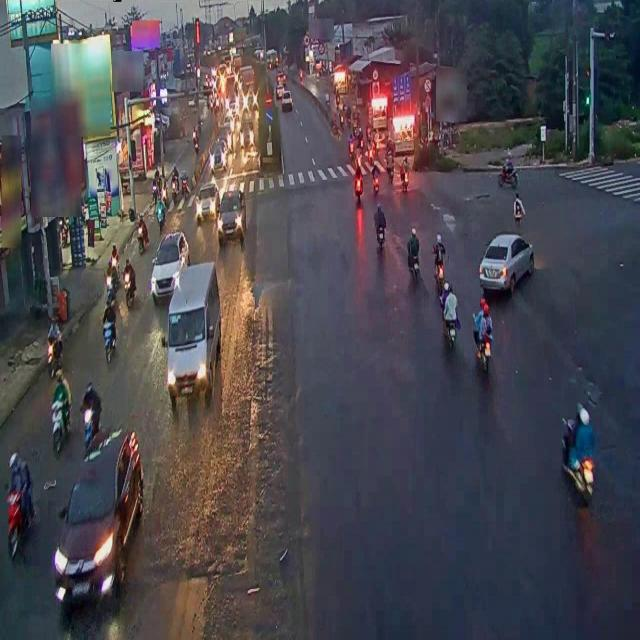car: (55, 420, 141, 619), (150, 231, 188, 301)
motorcycle: (1, 441, 37, 566), (560, 397, 598, 513), (46, 363, 72, 446), (472, 292, 496, 379), (436, 275, 462, 348), (82, 376, 100, 450), (100, 298, 118, 362), (431, 231, 449, 289), (404, 223, 422, 279), (372, 199, 388, 253)
truck: (167, 259, 221, 405)
